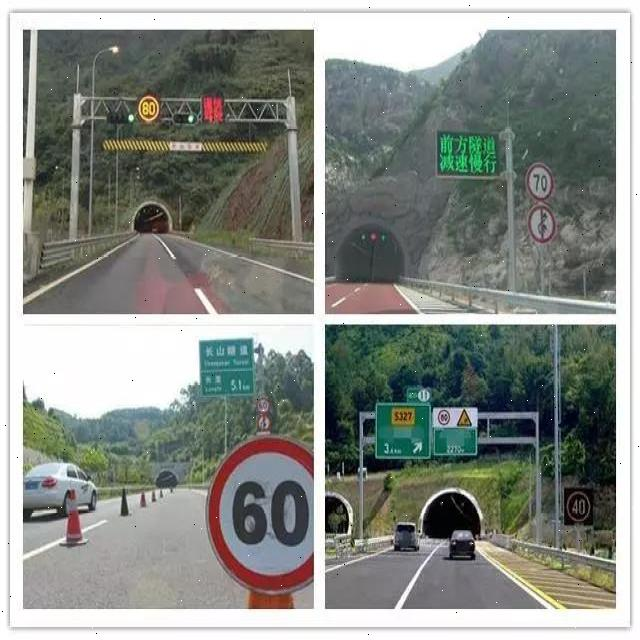speed limit 60: (208, 433, 315, 595)
speed limit 70: (524, 164, 555, 201)
